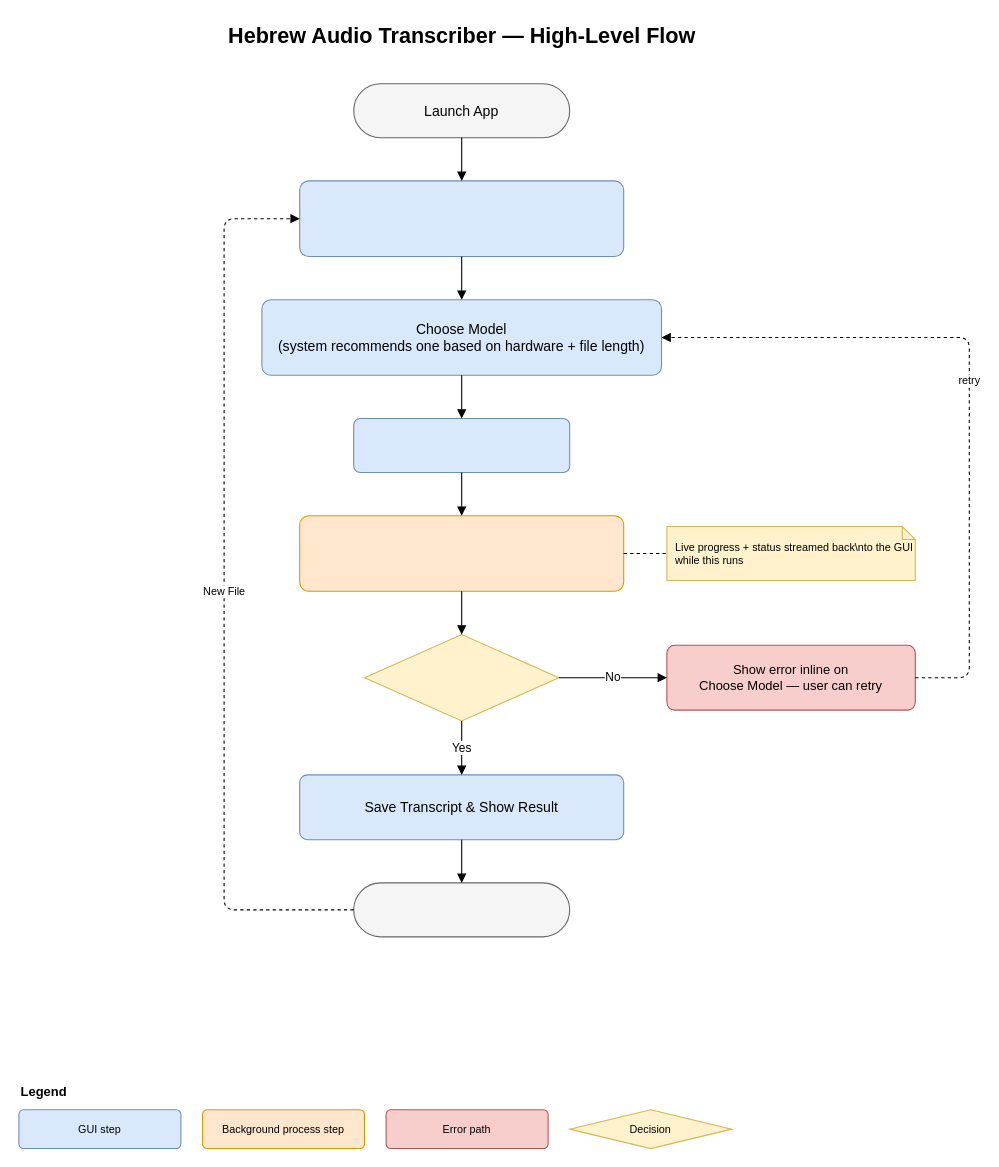
This 999x1167 diagram has some shape labels left out. The shapes that lost their labels are listed below. From the top down, each one's box as (x1, y1, x2, y2) in pixels, then its label:
(299, 180, 624, 256): Select Audio File (hardware specs shown, real duration probed)
(353, 417, 570, 473): Start Transcription
(299, 515, 624, 591): Transcribe Audio (faster-whisper, in a separate background process)
(363, 633, 559, 721): Succeeded?
(353, 882, 570, 937): Ready for Next File
